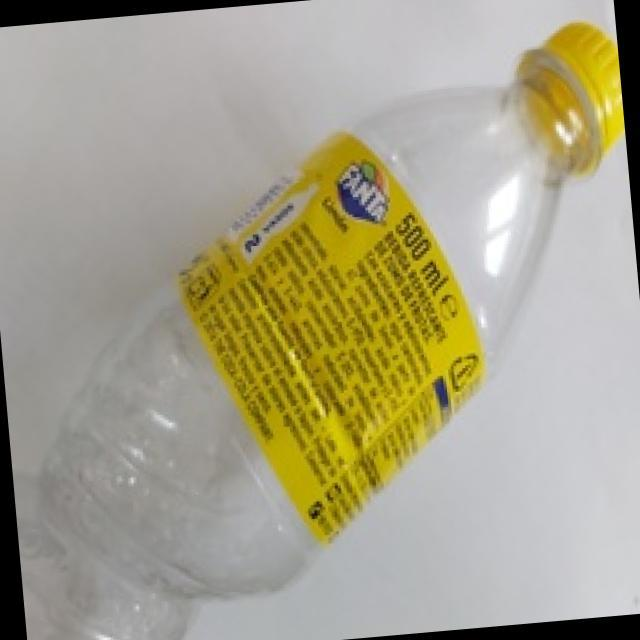good: (14, 16, 640, 640)
